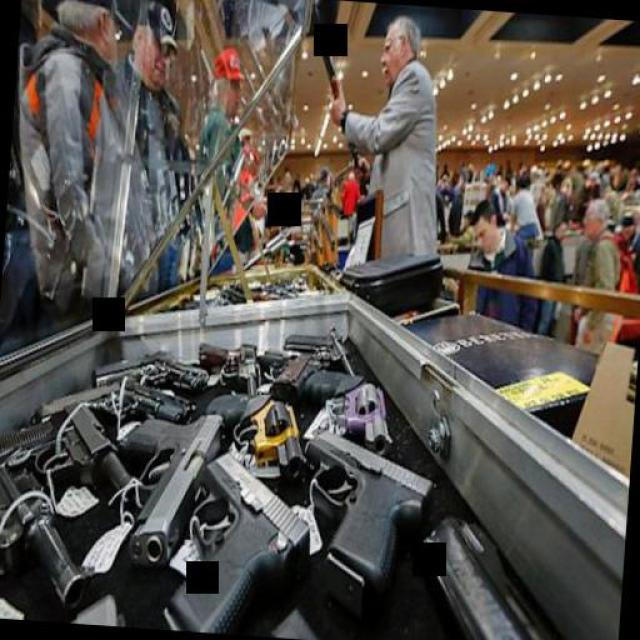gun: (160, 442, 316, 636), (291, 422, 439, 622), (112, 409, 226, 570), (0, 455, 94, 611), (296, 361, 400, 464), (200, 385, 308, 476), (70, 340, 214, 399)
